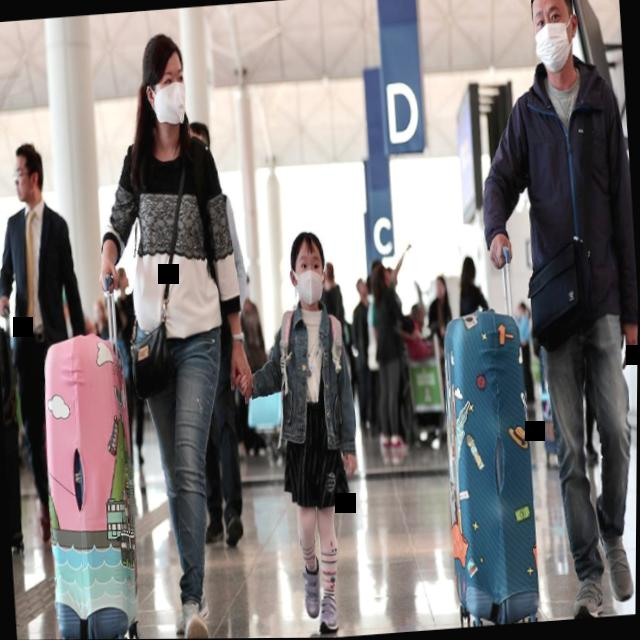Mask: (134, 27, 195, 134), (522, 0, 582, 79), (283, 221, 330, 314)
NO-Mask: (6, 136, 47, 213)
